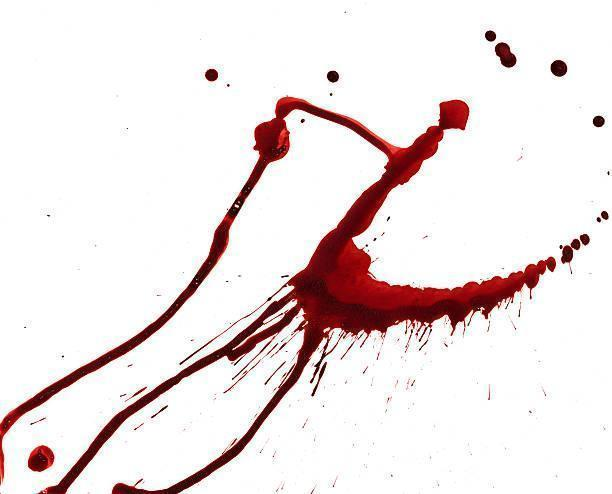Fire: (0, 98, 558, 494), (192, 64, 230, 96), (561, 234, 591, 274), (27, 446, 54, 472), (496, 43, 518, 66), (595, 115, 612, 132), (553, 59, 569, 76), (327, 70, 339, 82), (486, 30, 496, 40), (603, 211, 610, 220), (598, 217, 602, 222)
